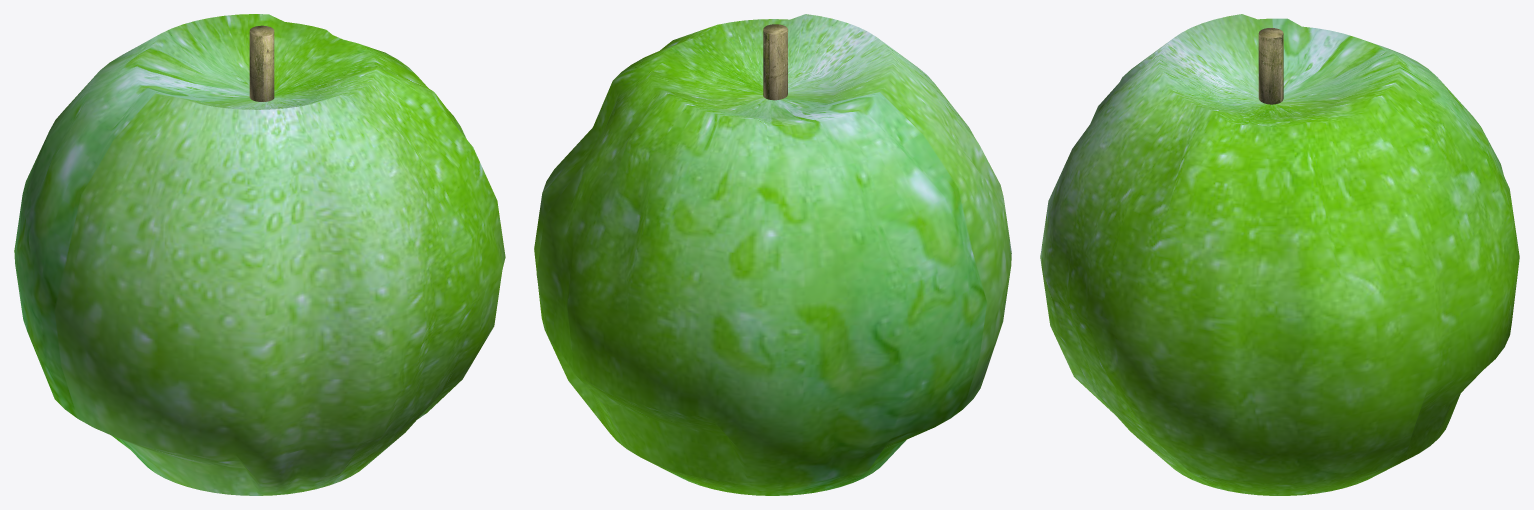
Rendered from Apple.fbx.
3 views of the same model, side by side, from view 1: azimuth 30°, elevation 25°; view 2: azimuth 150°, elevation 25°; view 3: azimuth 270°, elevation 25° (orthographic).
Visible parts, largest first — view 1: Body, Stick; view 2: Body, Stick; view 3: Body, Stick.
Part boxes in pixels (x1,y1,x2,y2): Body: (14,14,505,495); Stick: (249,25,274,101); Body: (534,14,1011,495); Stick: (763,24,787,100); Body: (1040,14,1519,495); Stick: (1258,28,1283,104).
Size of the model in its own units: 0.3992 by 0.4 by 0.386.
2 materials, 2 textured.
